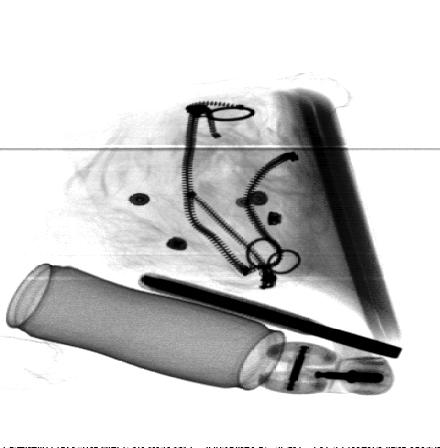Pliers: (135, 270, 408, 363)
